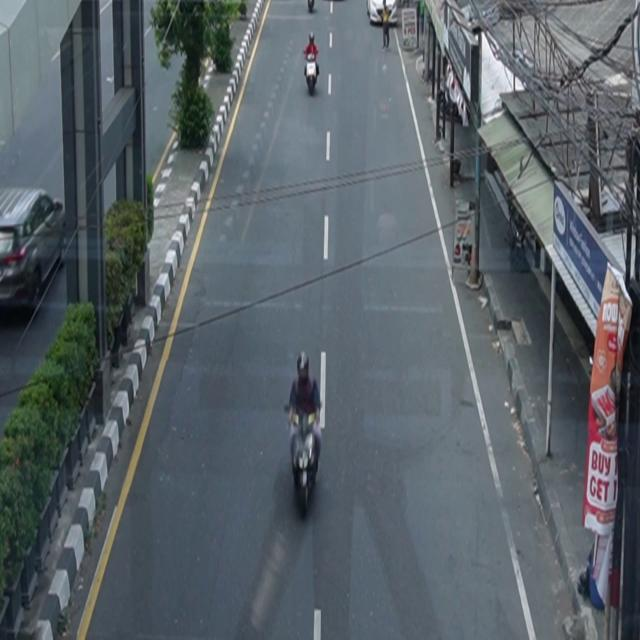car: (1, 186, 67, 314), (366, 1, 398, 26)
